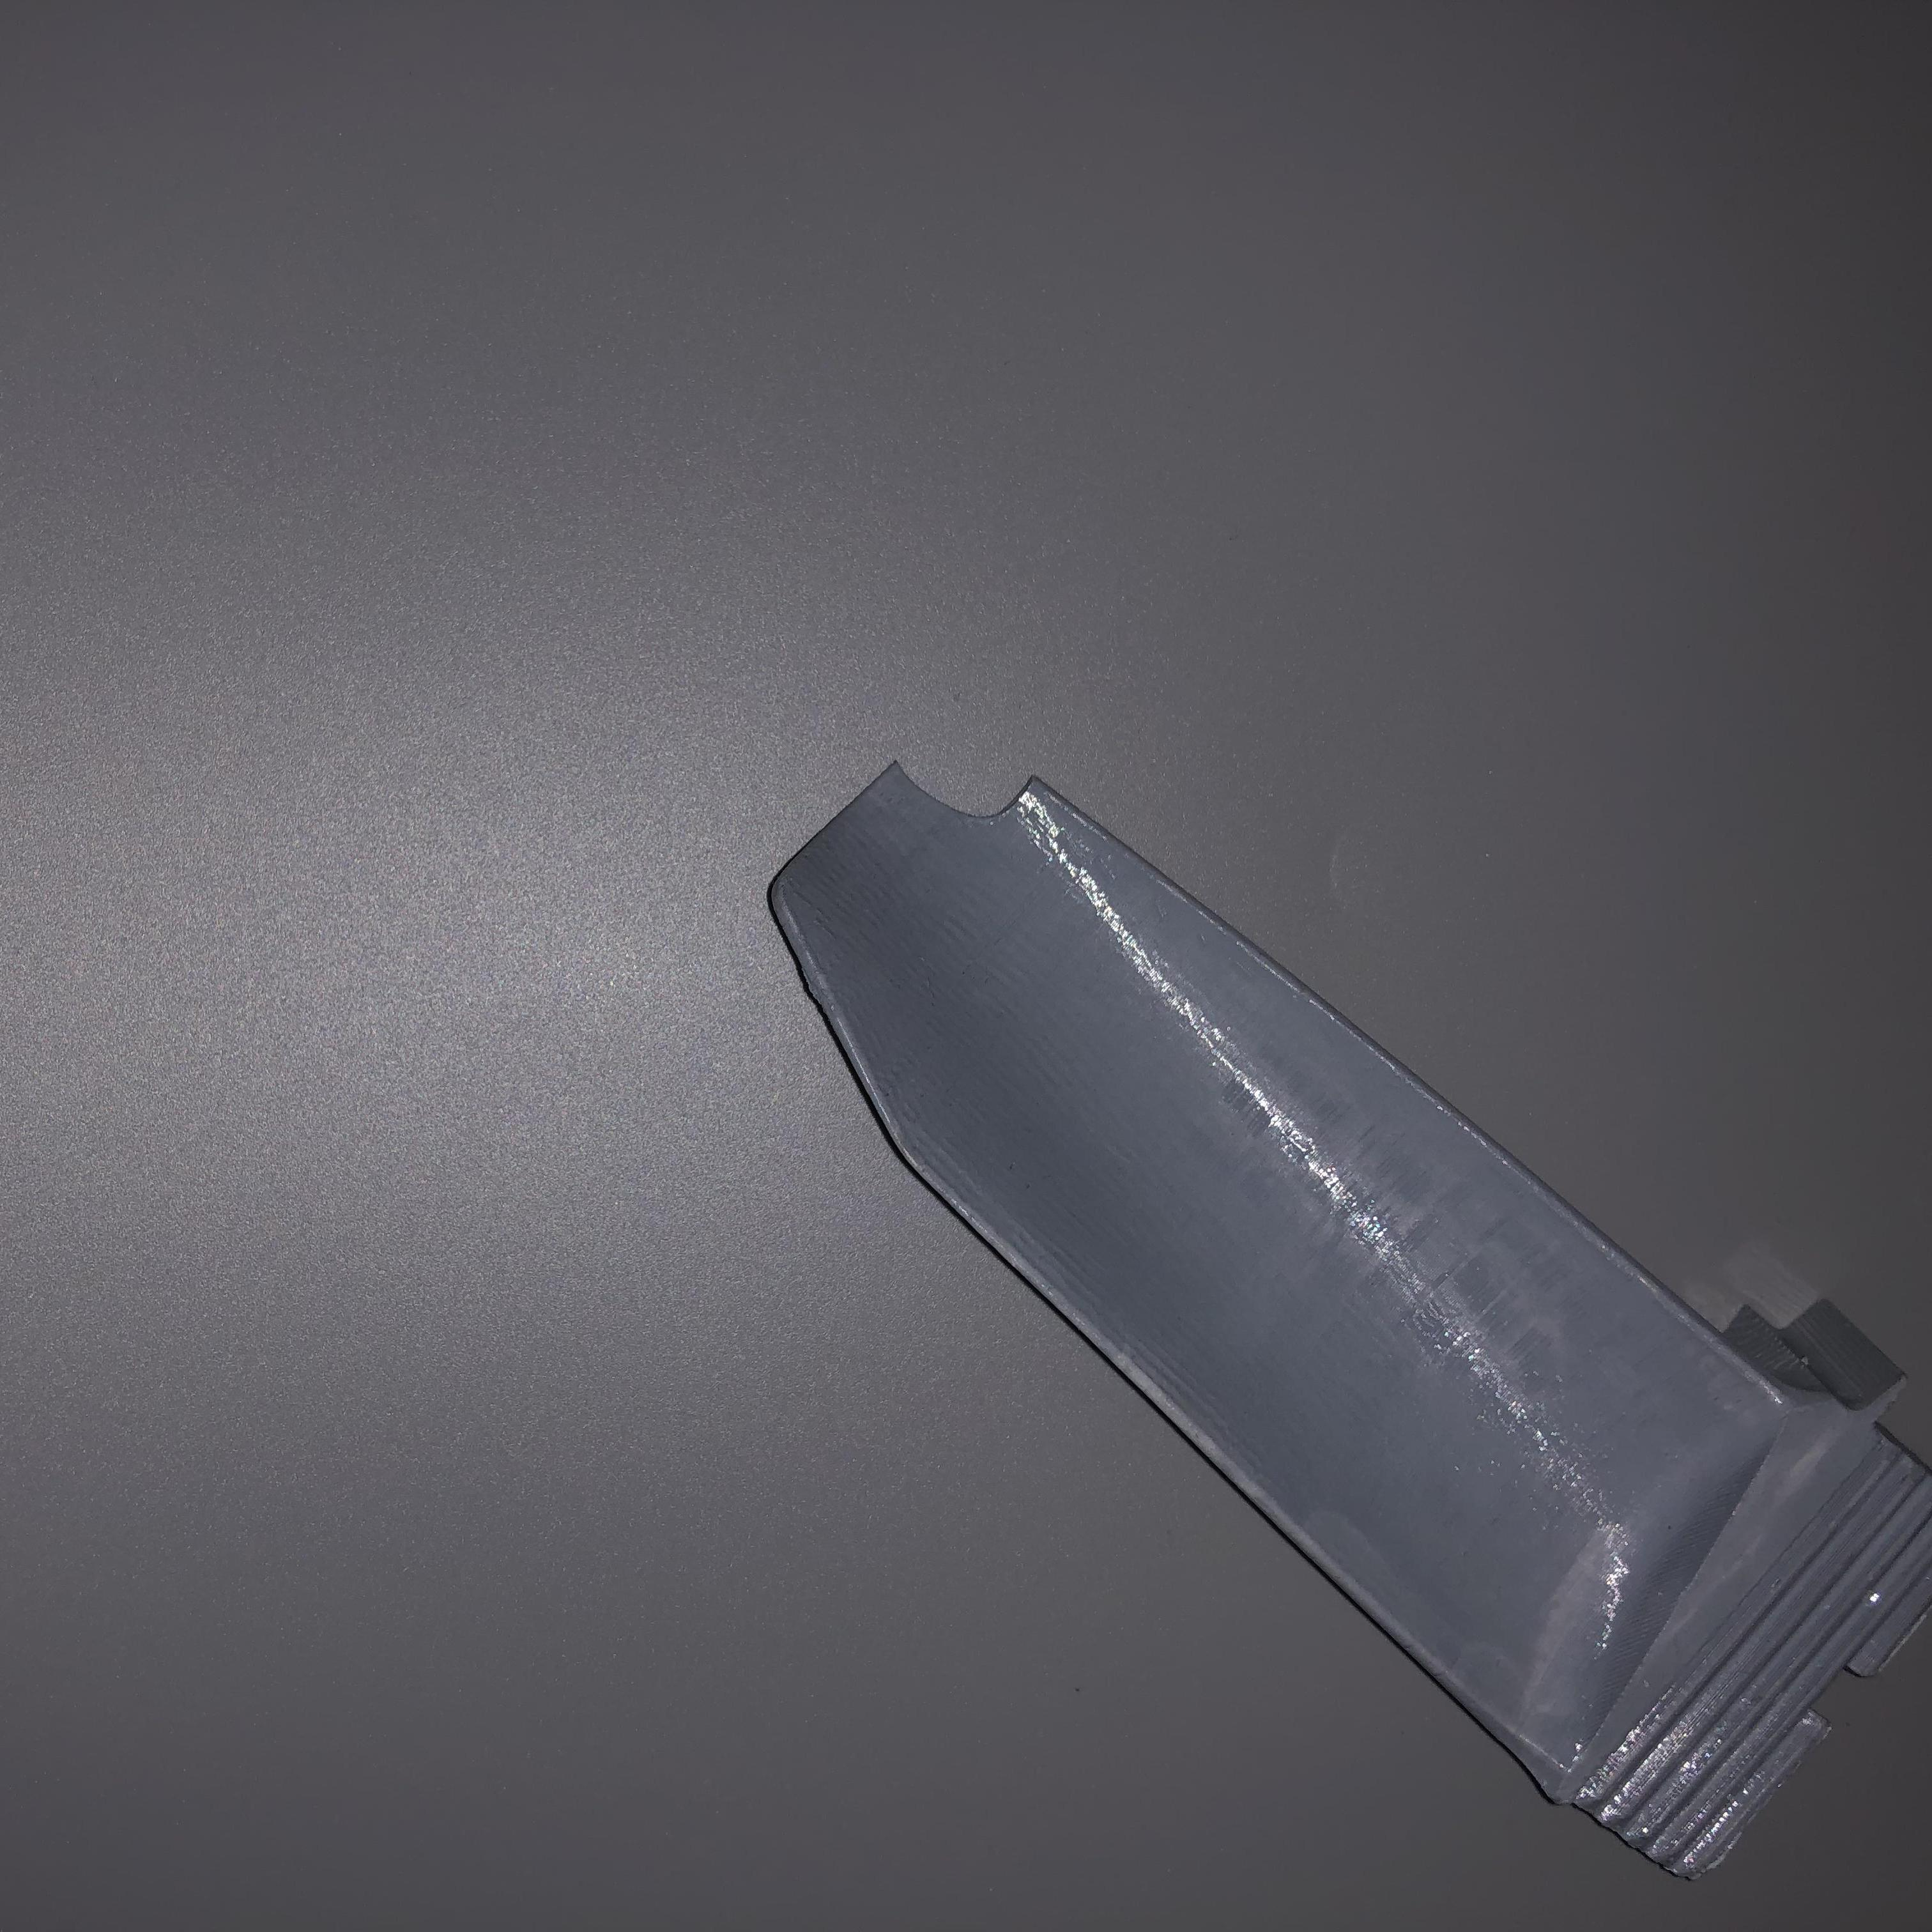fracture: (895, 734, 1072, 817)
